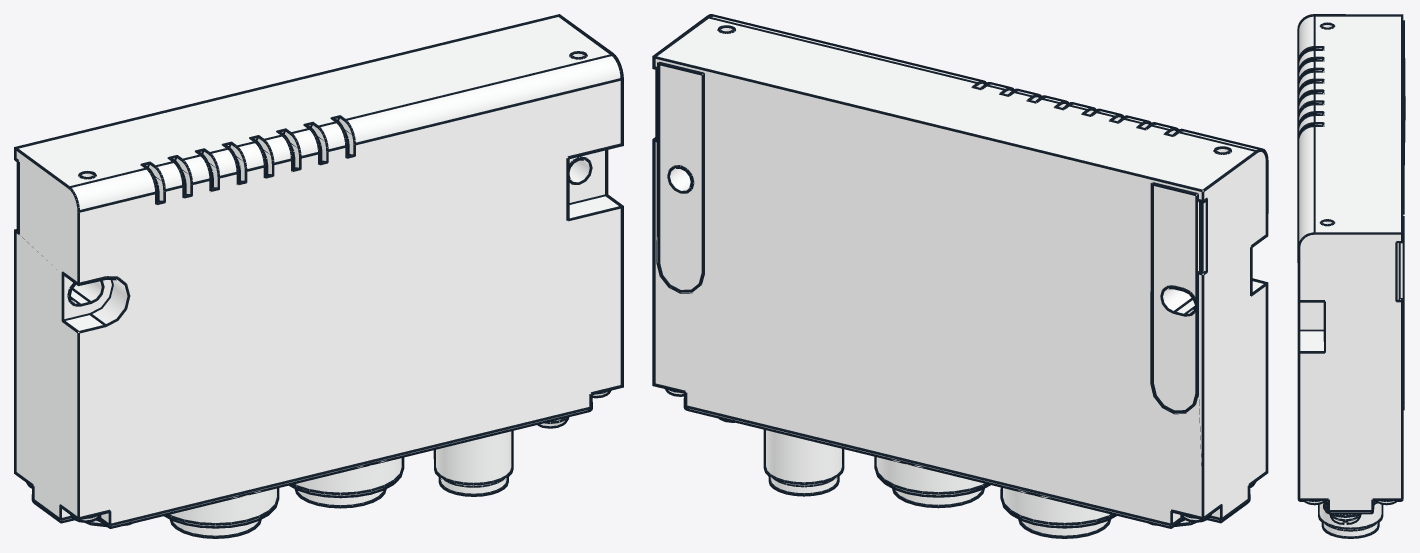
The model's file is EXW1-BMTAC.outline.glb.
The picture shows the model from 3 angles, left to right: view 1: azimuth 30°, elevation 25°; view 2: azimuth 150°, elevation 25°; view 3: azimuth 270°, elevation 25°; orthographic projection. The views are drawn at different scales.
Parts seen in each view (by area): view 1: EXW1-BECAC_B; view 2: EXW1-BECAC_B; view 3: EXW1-BECAC_B.
Part boxes in pixels (left/top/right/bottom): EXW1-BECAC_B: left=14, top=14, right=623, bottom=538; EXW1-BECAC_B: left=652, top=14, right=1268, bottom=538; EXW1-BECAC_B: left=1297, top=14, right=1405, bottom=538.
Bounding box in the file's own units: 101 × 73.35 × 21.04.
